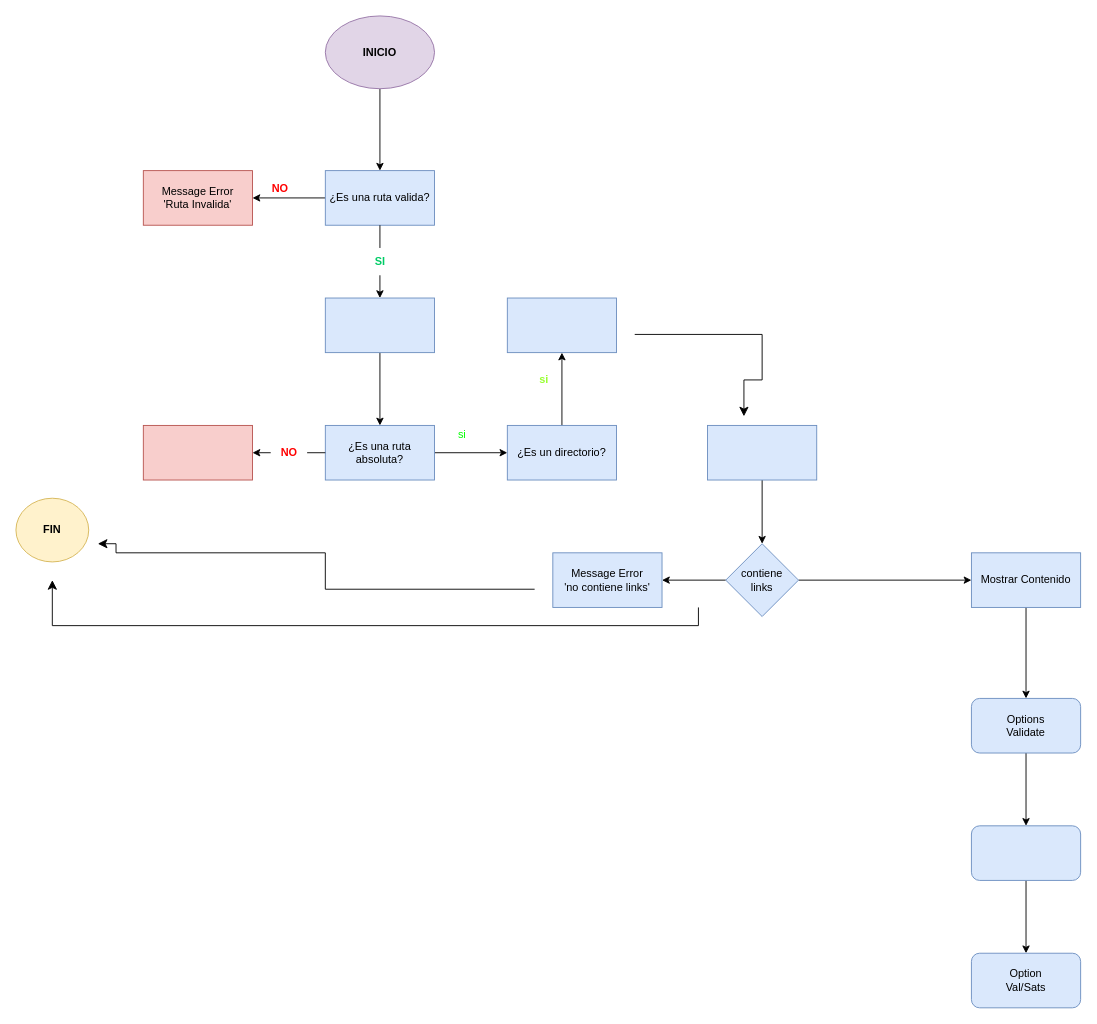
Some shapes in this 1097 by 1024 pixel diagram are drawn without their labels. The centre of each missing label's shape, as x and y in pixels:
"Cambiarlo a una ruta absoluta" belongs at (197,452).
"Leer contendio del directorio." belongs at (561,325).
"Message 'Si es un archivo tipo MD'" belongs at (762,452).
"Message Valid Si existe una ruta." belongs at (379,325).
"Option Stats" belongs at (1026,852).
